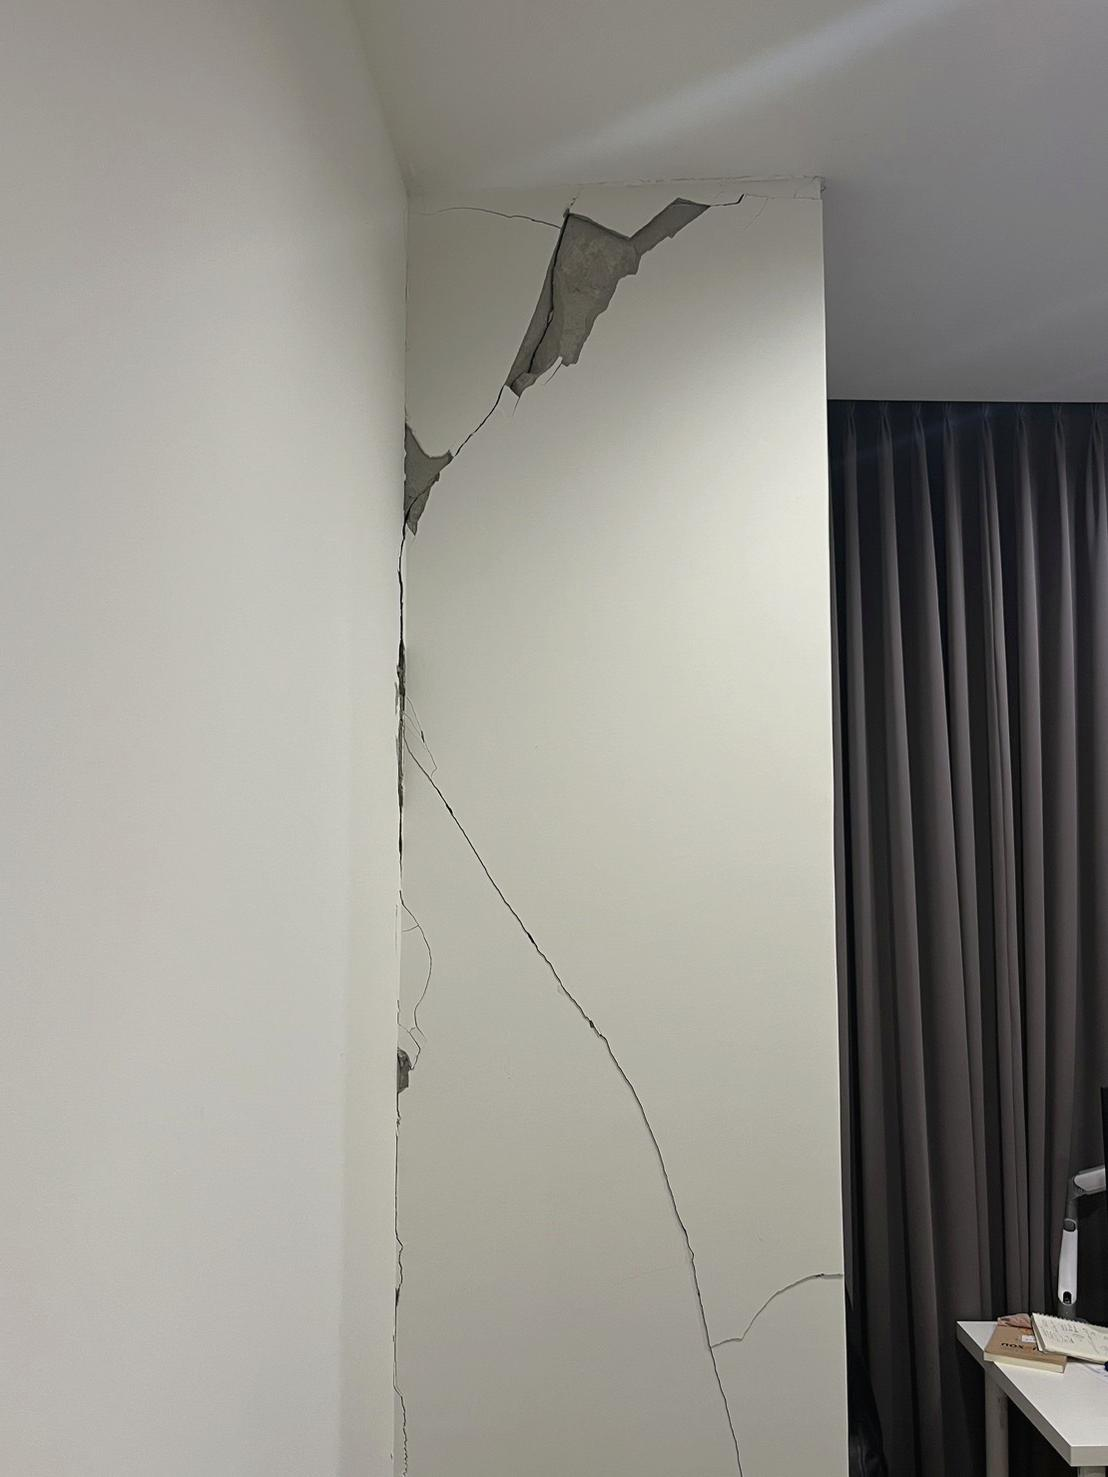High: (396, 184, 841, 1477)
